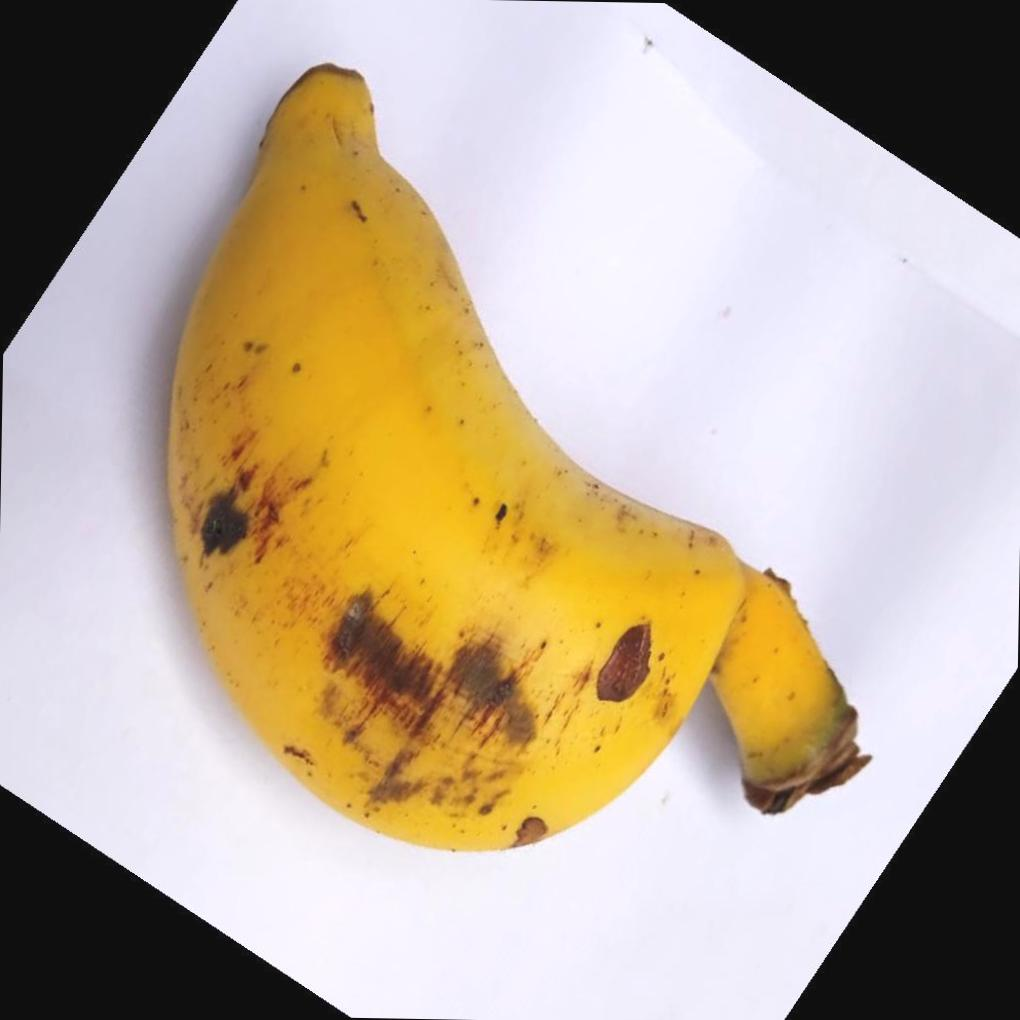Banana Ripe: (147, 37, 924, 984)
